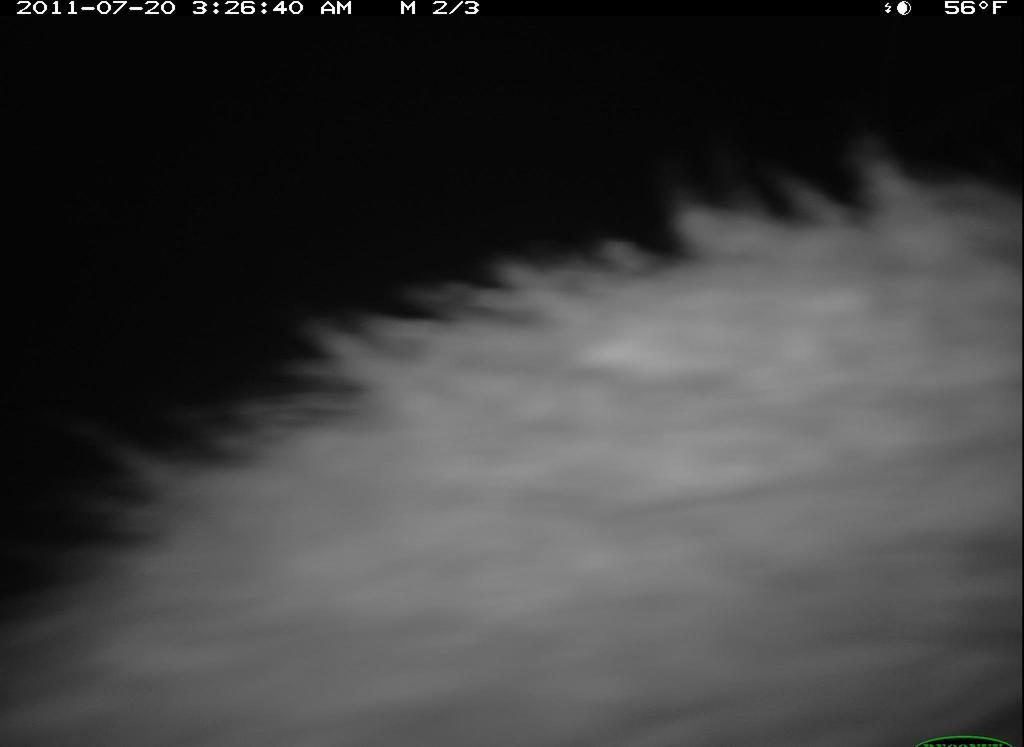raccoon: (1, 118, 1019, 747)
